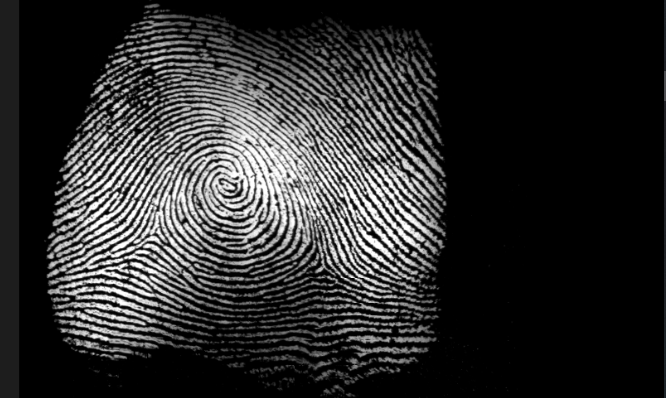nucelo: (220, 179, 235, 190)
verticilo: (146, 205, 168, 242), (314, 258, 336, 279)
